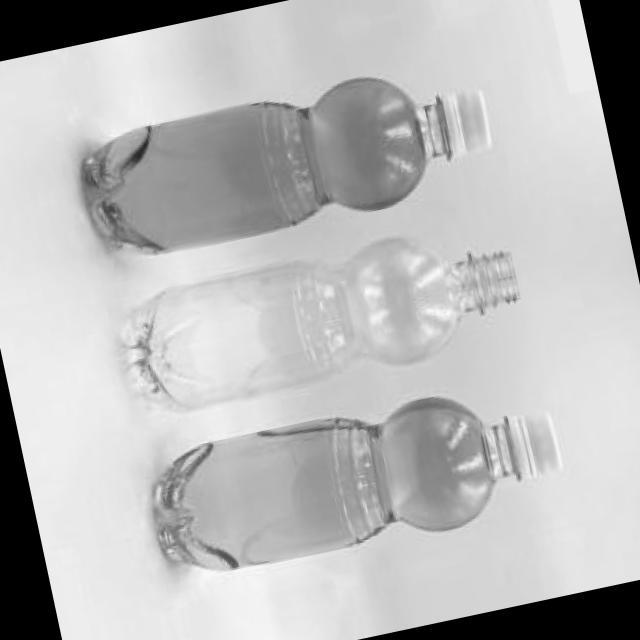good: (66, 192, 553, 449), (113, 359, 582, 602), (53, 38, 514, 284)
